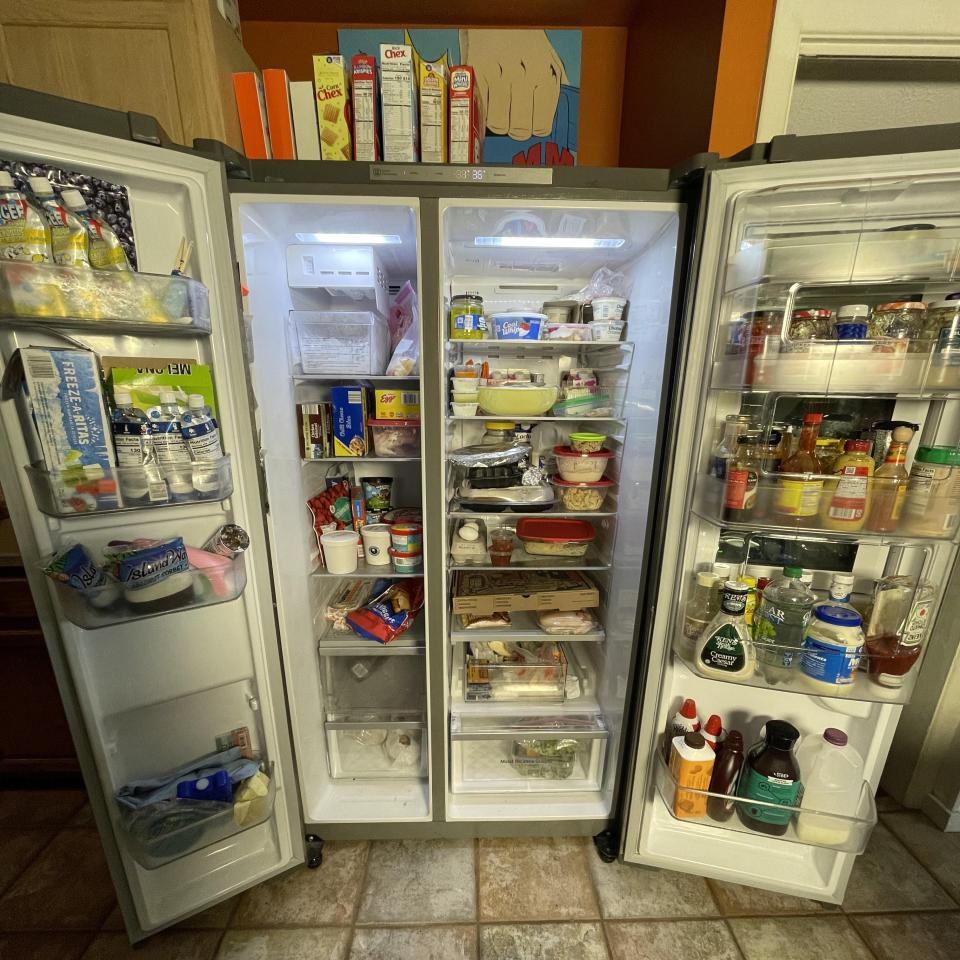Carne pollo: (536, 610, 598, 635)
Huevos: (452, 518, 488, 563)
Leche: (796, 727, 863, 845)
ketchup: (866, 575, 934, 700)
mayonnaise: (800, 606, 864, 696)
mustard: (820, 442, 875, 531)
